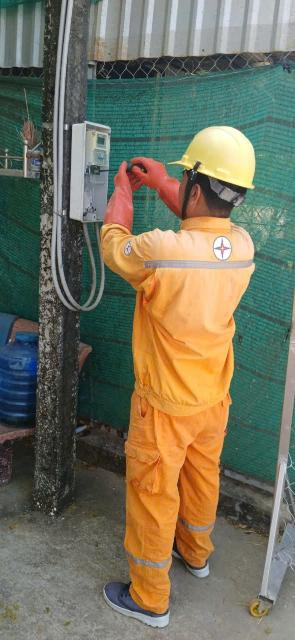gloves: (129, 143, 198, 216), (101, 159, 146, 240)
helmet: (177, 116, 263, 197)
shoes: (83, 564, 182, 640), (153, 512, 220, 587)
